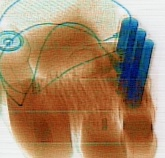powerbank: (106, 13, 154, 107)
